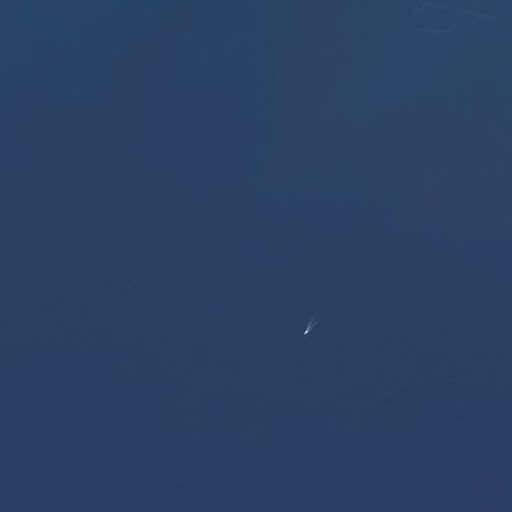ship: (301, 324, 313, 338)
